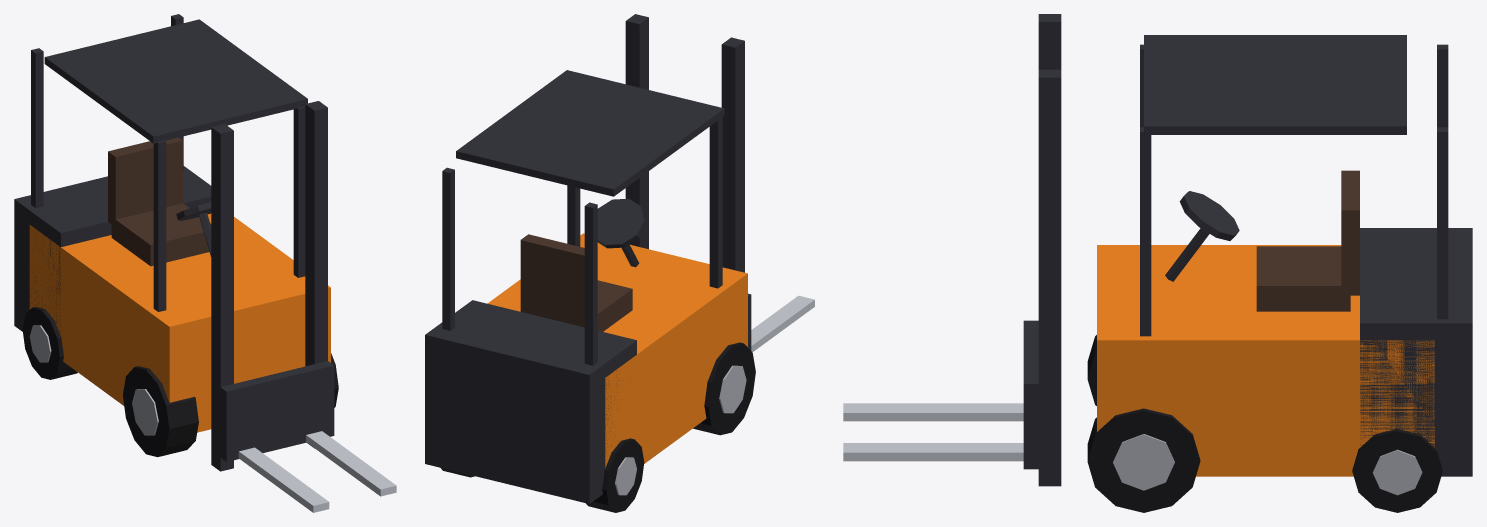
File: forklift.glb
3 renders of one model, left to right at view 1: azimuth 30°, elevation 25°; view 2: azimuth 150°, elevation 25°; view 3: azimuth 270°, elevation 25°, orthographic. The views are drawn at different scales.
Visible parts, largest first — view 1: forklift; view 2: forklift; view 3: forklift.
Boxes of the visible parts, box(x1,y1,x2,y2) form: forklift: box(14, 14, 396, 512); forklift: box(425, 14, 814, 512); forklift: box(843, 14, 1472, 512).
Size of the model in its own units: 1.28 by 2.45 by 3.35.
